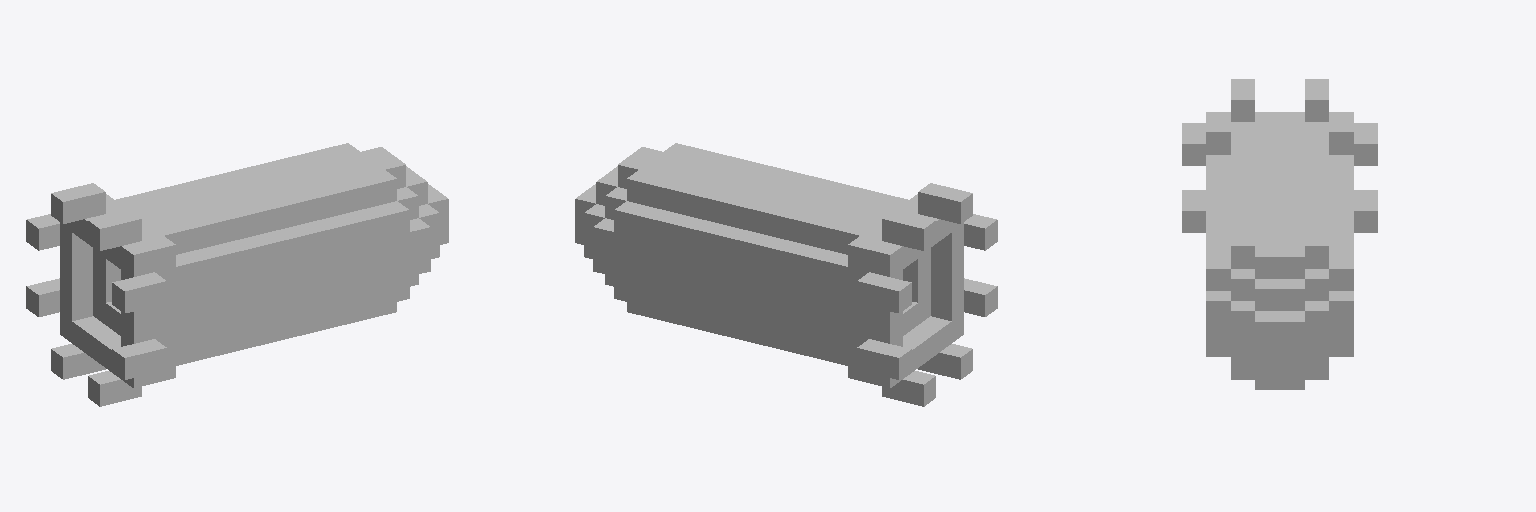
The model's file is Rocket.obj.
The picture shows the model from 3 angles: view 1: azimuth 30°, elevation 25°; view 2: azimuth 150°, elevation 25°; view 3: azimuth 270°, elevation 25°; orthographic projection.
Visible parts, largest first — view 1: object 1; view 2: object 1; view 3: object 1.
Boxes of the visible parts, x1=… form: object 1: x1=26, y1=143, x2=448, y2=406; object 1: x1=575, y1=143, x2=997, y2=406; object 1: x1=1182, y1=79, x2=1377, y2=389.
Size of the model in its own units: 1.7 by 0.8 by 0.8.